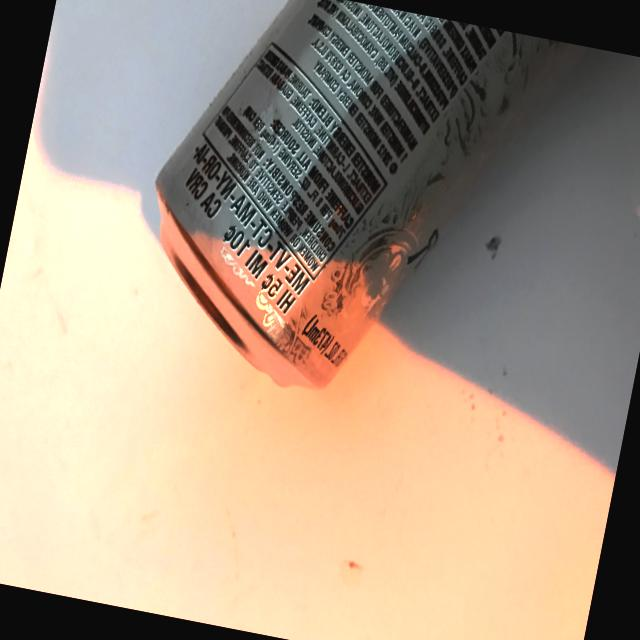Metal: (103, 0, 570, 464)
